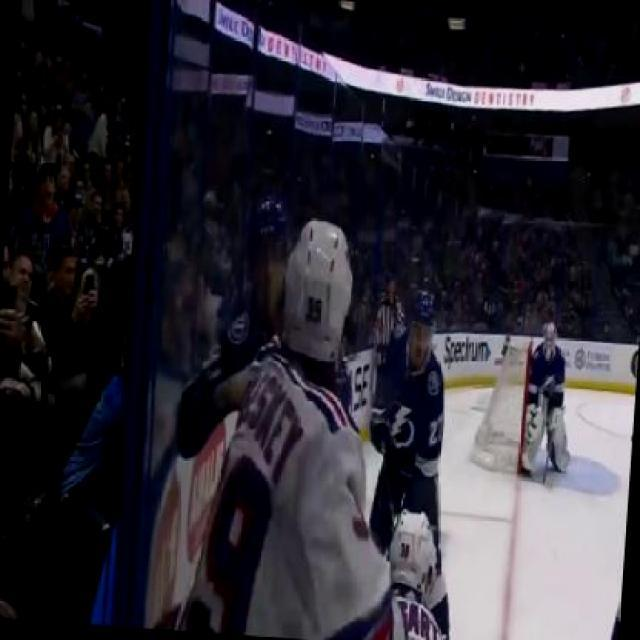non-fight: (368, 283, 456, 548), (523, 318, 580, 478)
